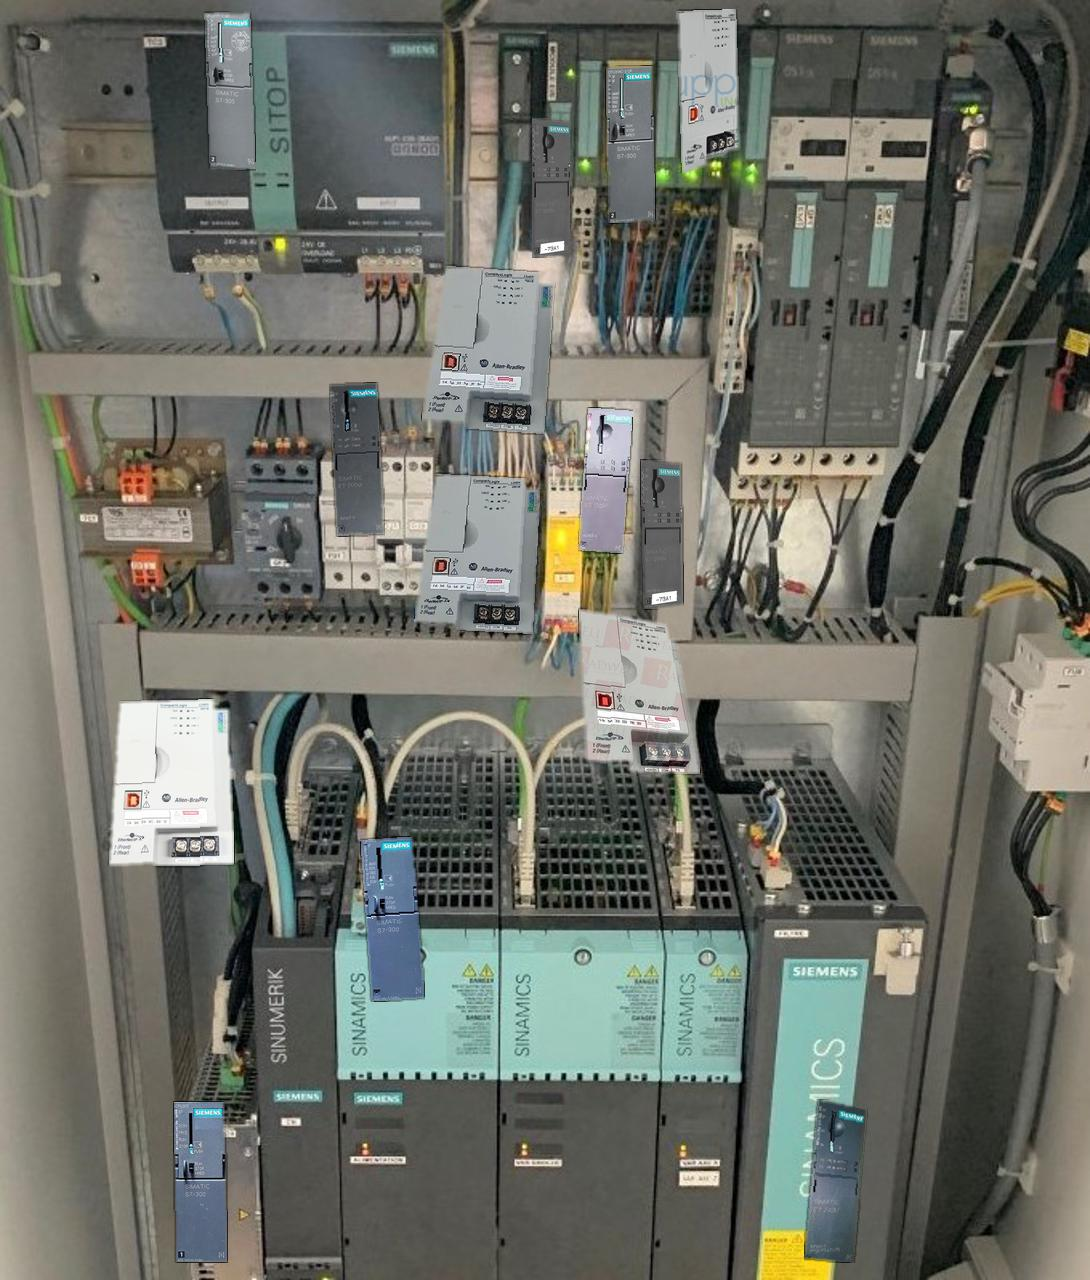AllenBradley: (422, 266, 553, 434), (109, 699, 232, 865), (414, 474, 539, 634), (579, 609, 699, 773), (678, 9, 737, 172)
Siemens: (360, 836, 424, 1001), (174, 1102, 226, 1261), (205, 13, 255, 168), (606, 66, 654, 222)
